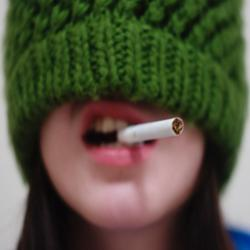cigarro: (115, 116, 188, 147)
fumador: (20, 17, 228, 235)
